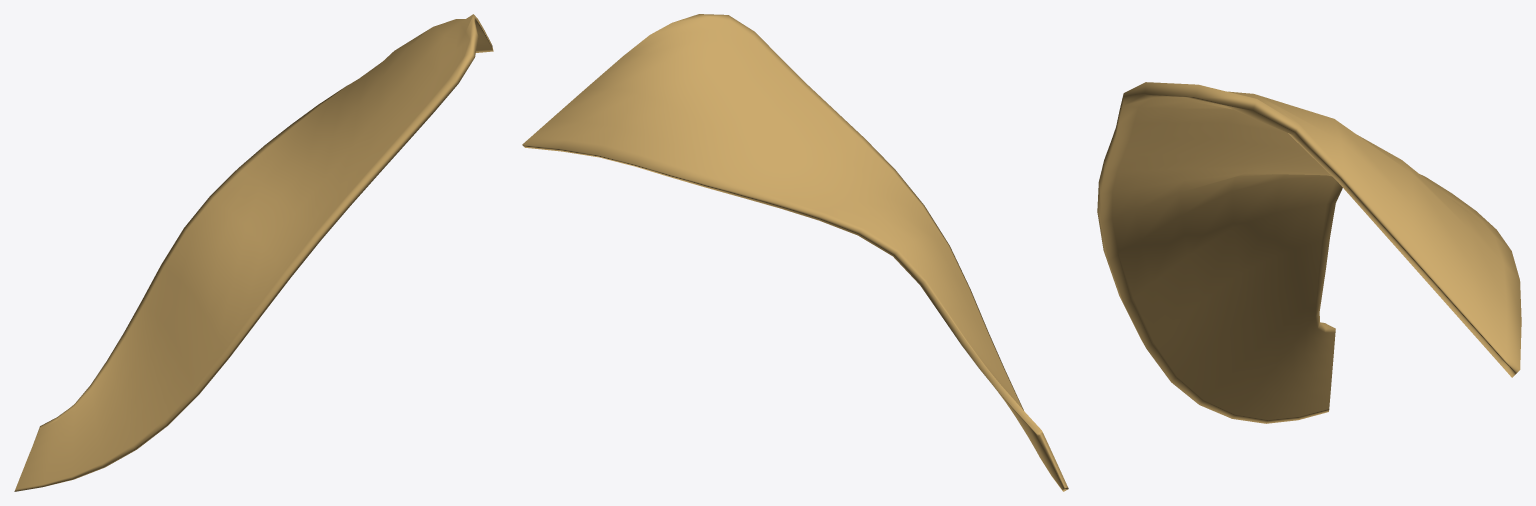
3 renders of one model, left to right at view 1: azimuth 30°, elevation 25°; view 2: azimuth 150°, elevation 25°; view 3: azimuth 270°, elevation 25°, orthographic. The views are drawn at different scales.
Visible parts, largest first — view 1: 右侧坐股韧带; view 2: 右侧坐股韧带; view 3: 右侧坐股韧带.
Part boxes in pixels (left/top/right/bottom): 右侧坐股韧带: left=14, top=14, right=493, bottom=491; 右侧坐股韧带: left=522, top=14, right=1068, bottom=491; 右侧坐股韧带: left=1097, top=82, right=1521, bottom=423.
Bounding box in the file's own units: 0.0662 × 0.0455 × 0.0245.
